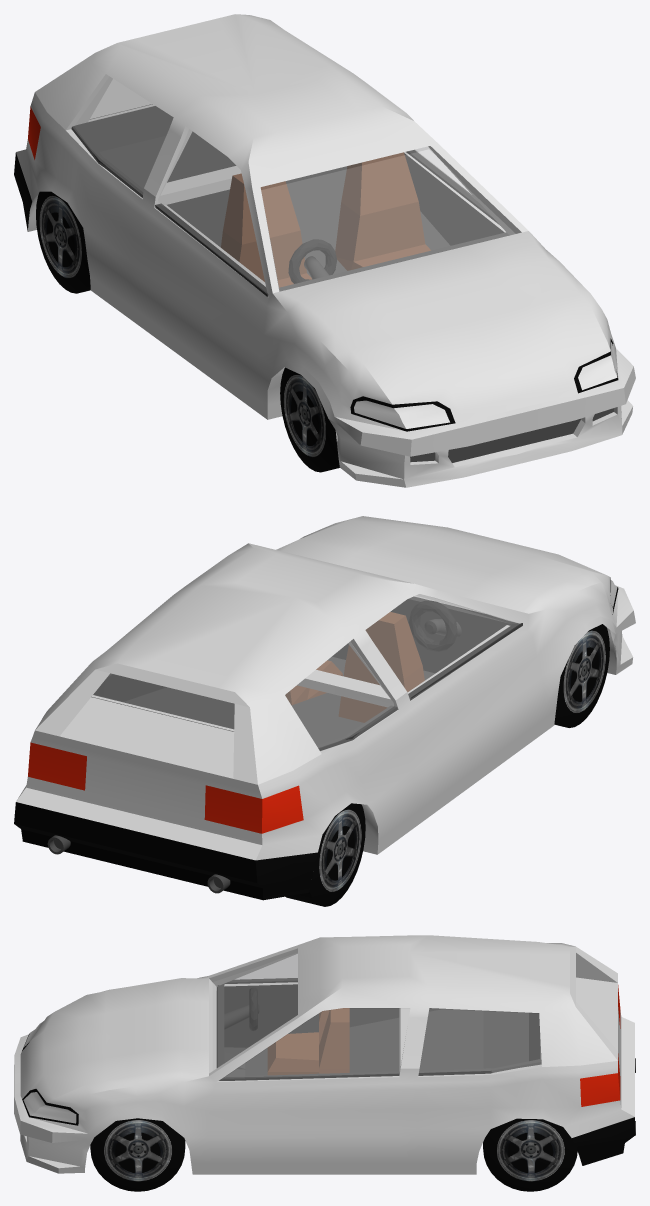
Rendered from CIVIC1.fbx.
3 views of the same model, one above another, from view 1: azimuth 30°, elevation 25°; view 2: azimuth 150°, elevation 25°; view 3: azimuth 270°, elevation 25° (orthographic). The views are drawn at different scales.
Parts seen in each view (by area): view 1: civic2.0, front_right.018, back_right.018, steeringwheel; view 2: civic2.0, back_right.018, front_right.018, steeringwheel; view 3: civic2.0, front_left.018, back_left.018, steeringwheel.
Part boxes in pixels (left/top/right/bottom): civic2.0: left=14, top=14, right=635, bottom=487; front_right.018: left=280, top=367, right=339, bottom=472; back_right.018: left=36, top=191, right=90, bottom=293; steeringwheel: left=288, top=239, right=336, bottom=283; civic2.0: left=14, top=516, right=635, bottom=900; back_right.018: left=285, top=803, right=365, bottom=906; front_right.018: left=554, top=624, right=609, bottom=727; steeringwheel: left=409, top=600, right=457, bottom=651; civic2.0: left=14, top=935, right=635, bottom=1174; front_left.018: left=90, top=1118, right=185, bottom=1191; back_left.018: left=483, top=1118, right=577, bottom=1191; steeringwheel: left=249, top=987, right=259, bottom=1030.
Bounding box in the file's own units: 275 × 119 × 87.37.
